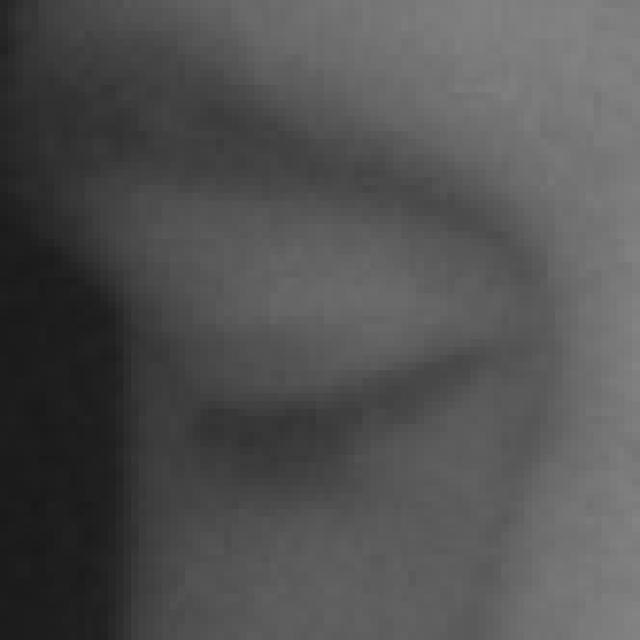Eyeclosed: (170, 222, 483, 552)
